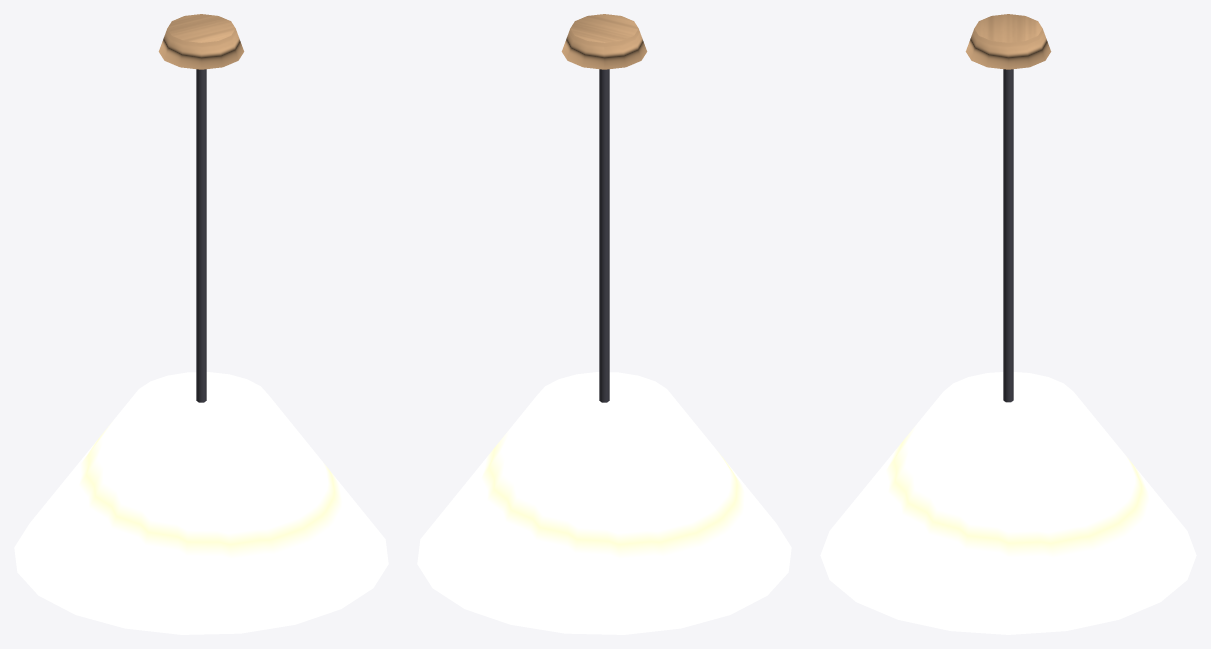
Rendered from prop_pendant.glb.
The picture shows the model from 3 angles, left to right: view 1: azimuth 30°, elevation 25°; view 2: azimuth 150°, elevation 25°; view 3: azimuth 270°, elevation 25°; orthographic projection.
Visible parts, largest first — view 1: prop_pendant; view 2: prop_pendant; view 3: prop_pendant.
Part boxes in pixels (bbox=[...]): prop_pendant: bbox=[14, 14, 388, 634]; prop_pendant: bbox=[417, 14, 791, 634]; prop_pendant: bbox=[820, 14, 1196, 634].
Bounding box in the file's own units: 0.55 × 0.8875 × 0.55.
4 materials, 1 textured.
